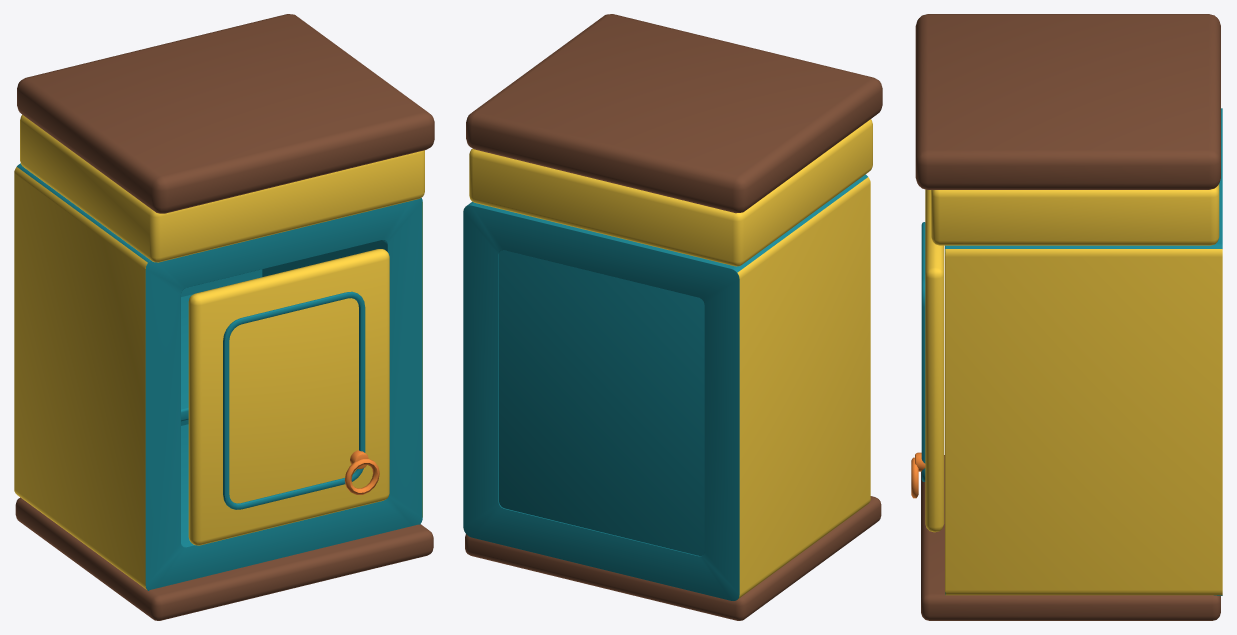
The model's file is armario_parede_1porta_colonial.glb.
3 renders of one model, left to right at view 1: azimuth 30°, elevation 25°; view 2: azimuth 150°, elevation 25°; view 3: azimuth 270°, elevation 25°, orthographic. The views are drawn at different scales.
Visible parts, largest first — view 1: armario_parede_1porta_colonial, porta_1; view 2: armario_parede_1porta_colonial; view 3: armario_parede_1porta_colonial, porta_1.
Part boxes in pixels (bbox=[...]): armario_parede_1porta_colonial: bbox=[14, 14, 434, 620]; porta_1: bbox=[188, 249, 389, 545]; armario_parede_1porta_colonial: bbox=[463, 14, 882, 620]; armario_parede_1porta_colonial: bbox=[915, 14, 1222, 620]; porta_1: bbox=[911, 189, 944, 532].
Bounding box in the file's own units: 0.398 × 0.6 × 0.3612.
Materials: 1 (1 with a texture image).
